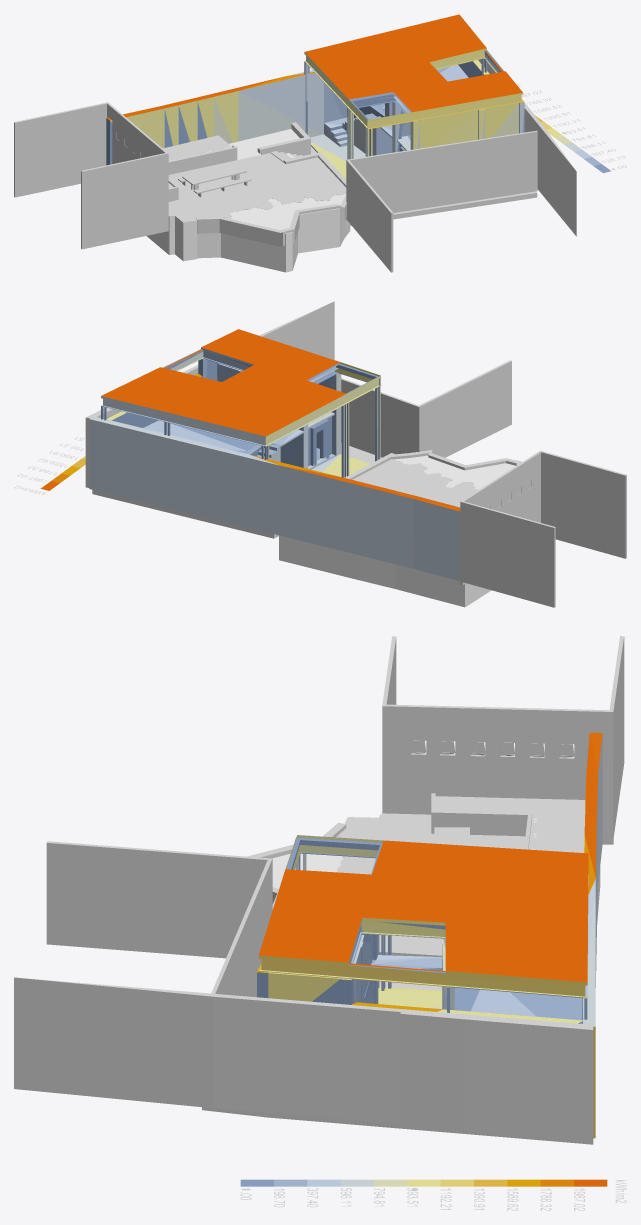
Rendered from incidentradiation.glb.
3 views of the same model, one above another, from view 1: azimuth 30°, elevation 25°; view 2: azimuth 150°, elevation 25°; view 3: azimuth 270°, elevation 25° (orthographic). The views are drawn at different scales.
Visible parts, largest first — view 1: radbake, 36 011, 113 011, 14 011, 114 011, 16 011, 123 011.001, 37 011, 15 011, 28 011.002, 115 011, 107 011 (+5 smaller); view 2: radbake, 16 011, 14 011, 113 011, 37 011, 36 011, 15 011, 123 011.001, 114 011, 115 011; view 3: 123 011.001, radbake, 37 011, 15 011, 20 011, 114 011, 36 011, Object.075, 115 011, 18 011, 16 011, 14 011 (+1 smaller).
Part boxes in pixels (x1,y1,x2,y2): radbake: (106, 14, 524, 178); 36 011: (346, 130, 537, 219); 113 011: (147, 129, 350, 272); 14 011: (81, 152, 168, 249); 114 011: (168, 153, 346, 222); 16 011: (14, 102, 106, 197); 123 011.001: (478, 58, 576, 236); 37 011: (347, 160, 393, 272); 15 011: (106, 102, 167, 163); 28 011.002: (212, 216, 284, 246); 115 011: (311, 146, 537, 225); 107 011: (168, 147, 237, 174); radbake: (89, 329, 460, 581); 16 011: (462, 501, 555, 607); 14 011: (539, 450, 626, 558); 113 011: (279, 455, 515, 607); 37 011: (419, 360, 511, 457); 36 011: (341, 378, 420, 457); 15 011: (460, 451, 540, 585); 123 011.001: (85, 301, 334, 487); 114 011: (352, 459, 478, 502); 115 011: (92, 443, 381, 538); 123 011.001: (14, 977, 593, 1141); radbake: (257, 732, 602, 1138); 37 011: (46, 841, 268, 958); 15 011: (386, 704, 613, 844); 20 011: (435, 796, 598, 862); 114 011: (337, 813, 525, 951); 36 011: (211, 858, 272, 997); Object.075: (240, 1179, 607, 1186); 115 011: (202, 981, 593, 1144); 18 011: (435, 811, 532, 836); 16 011: (609, 636, 624, 836); 14 011: (382, 636, 396, 813).
Size of what is drawn, in the model's own units: 34.65 by 7.14 by 20.93.
